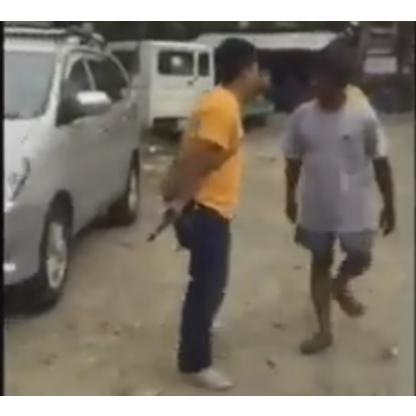gun: (144, 197, 176, 247)
